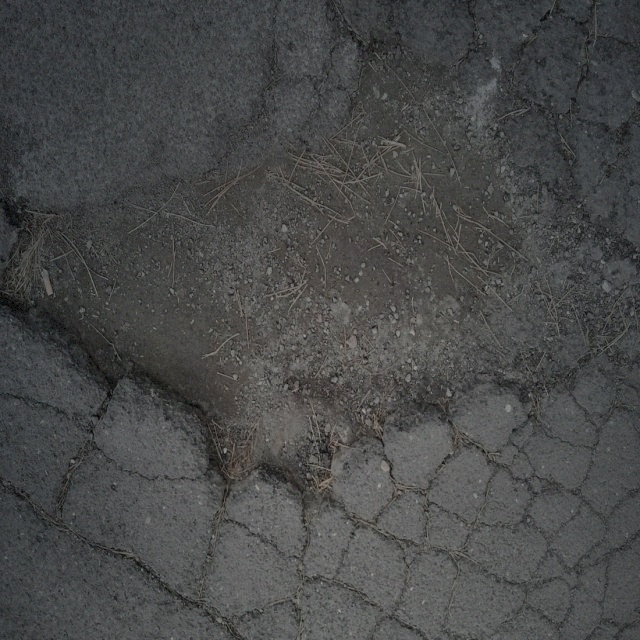pothole: (6, 45, 578, 480)
